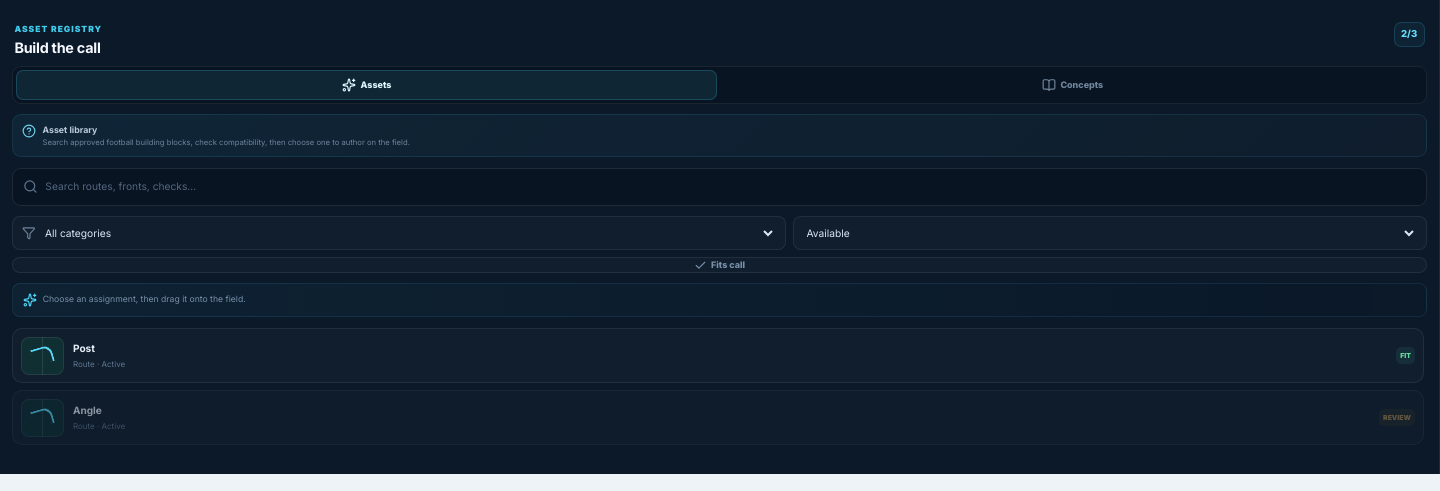
Scenario: AssetPalette › uses server compatibility, lifecycle filters, aliases, and disabled replacements
The image size is (1440, 491).
Expected: the text titled "2 matching of 3 assets" is shown, [1394,22,1425,47]
Click the button "Fits call" at (720, 265), box [12,257,1427,273]
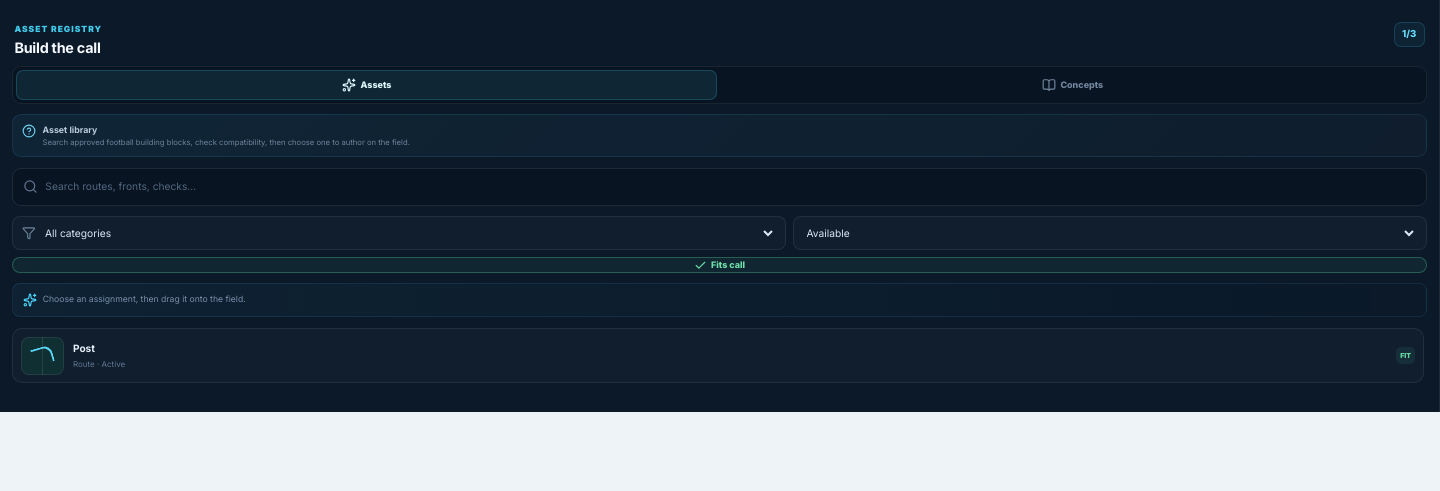
Expected: the button "Post route · active Fit" is shown, [12,328,1424,383]
Now the button "Angle" is gone
Click the button "Fits call" at (720, 265), box [12,257,1427,273]
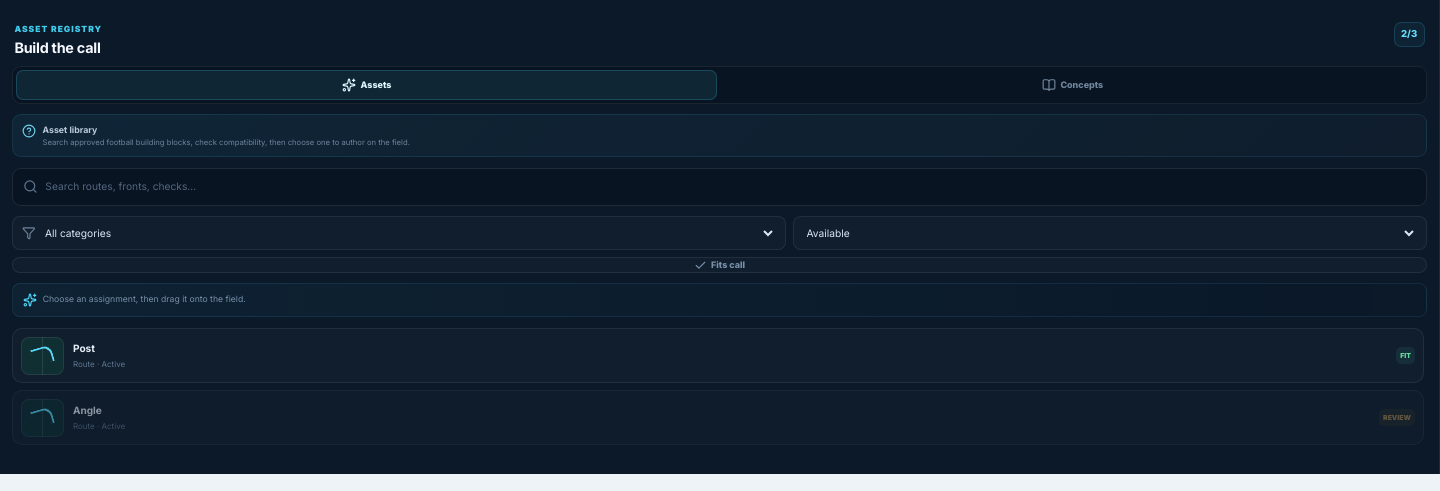
Type "Texas" into the field named "Search play assets" at (730, 187), box [45,170,1416,204]
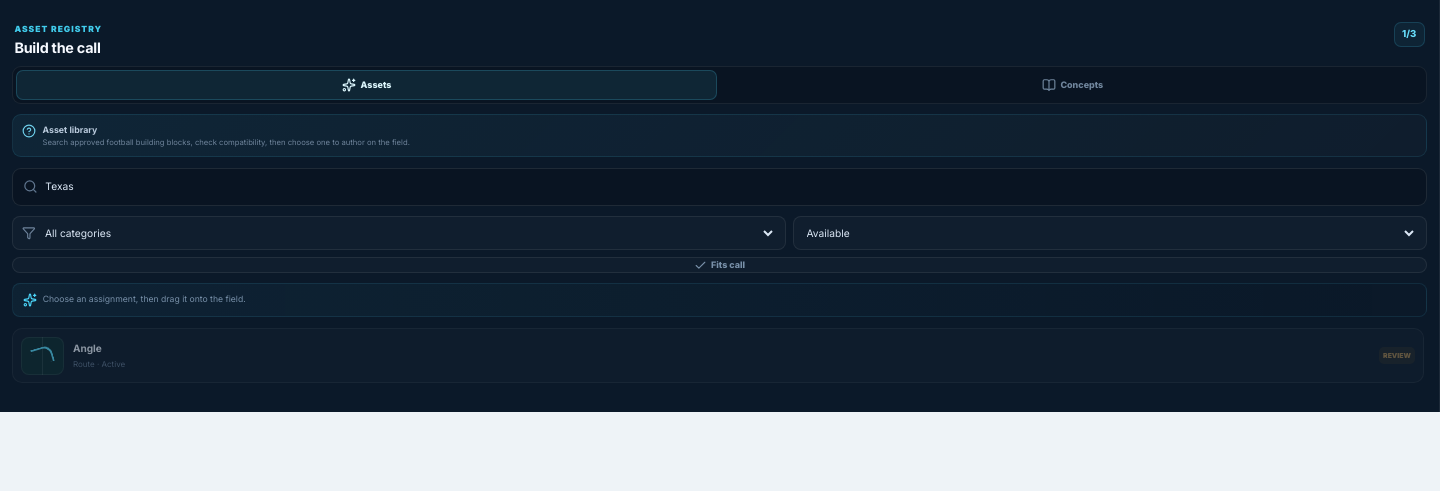
Now the button "Angle route · active Review" is shown, box [12,328,1424,383]
Select "All lifecycle states" in the 2nd dropdown named "Asset lifecycle" at (1110, 233), box [802,216,1417,250]
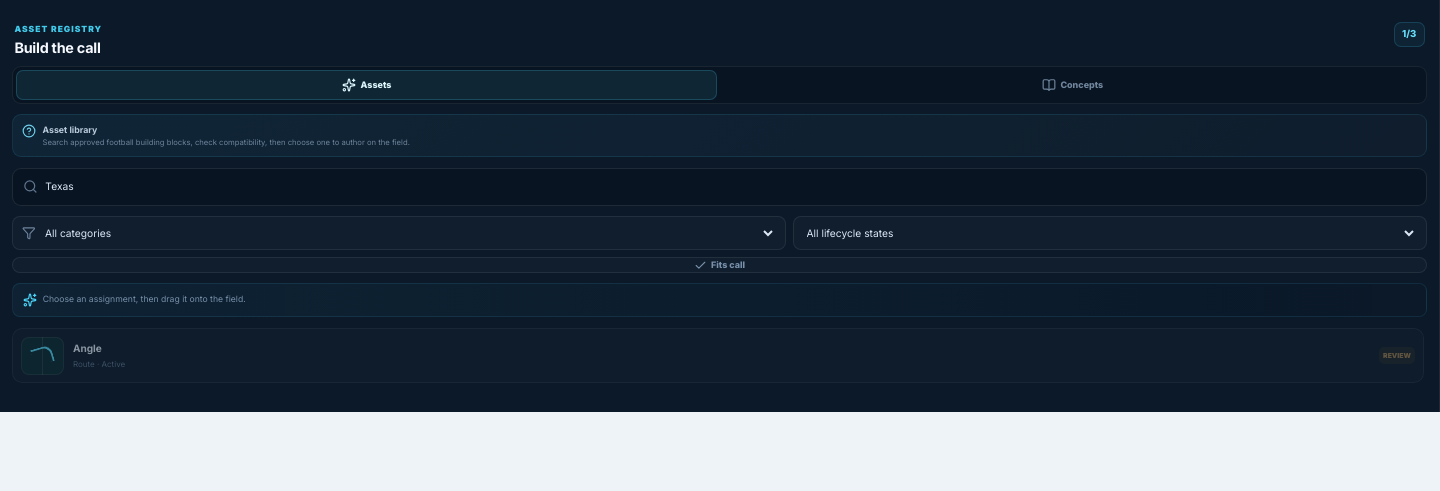
Replace the text in the field named "Search play assets" with "Old Route" at (730, 187), box [45,170,1416,204]
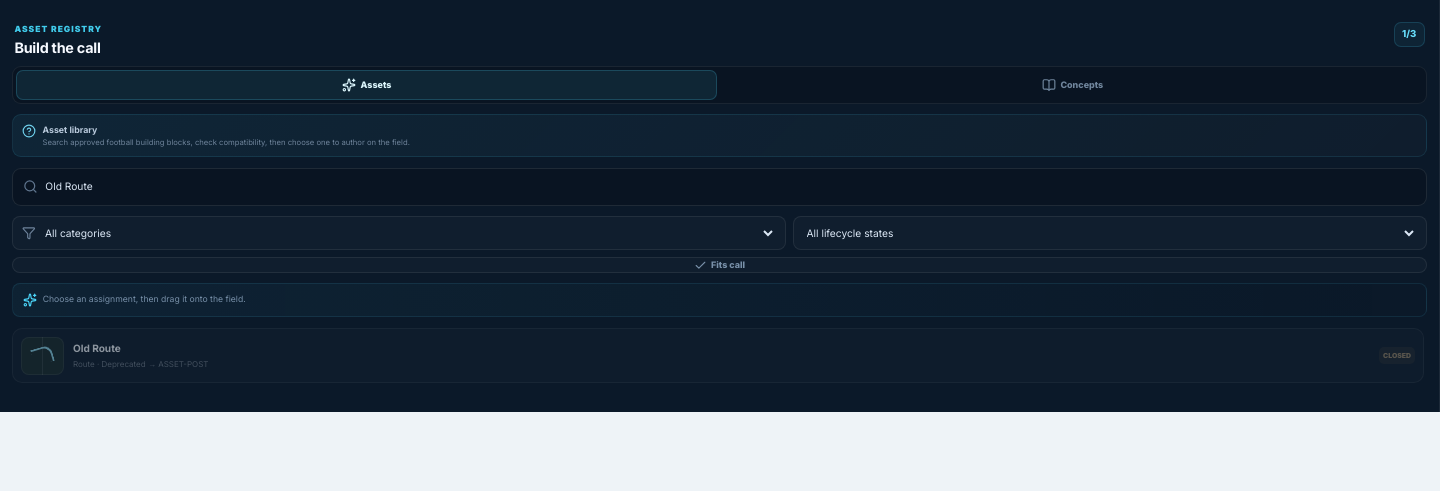
Now the button "Old Route route · deprecated → ASSET-POST Closed" is disabled, box [12,328,1424,383]
